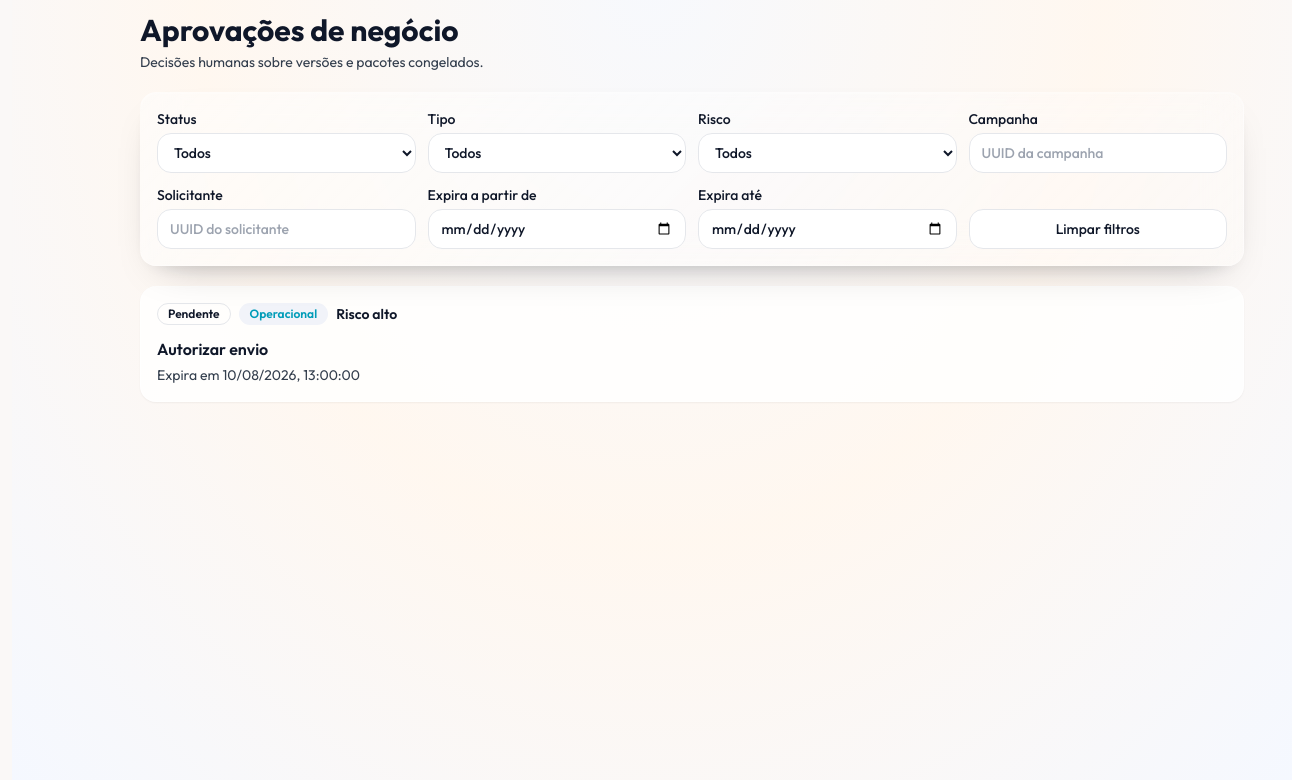
Test: ApprovalQueuePage › renders risk/status text and persists filters in the URL
The image size is (1292, 780).
Expected: the heading "Autorizar envio" is shown, [157,339,268,359]
Expected: the text "Risco alto" is shown, [336,304,397,324]
Select "Editorial" in the dropdown labelled "Tipo" at [557, 153], box [428,133,686,173]
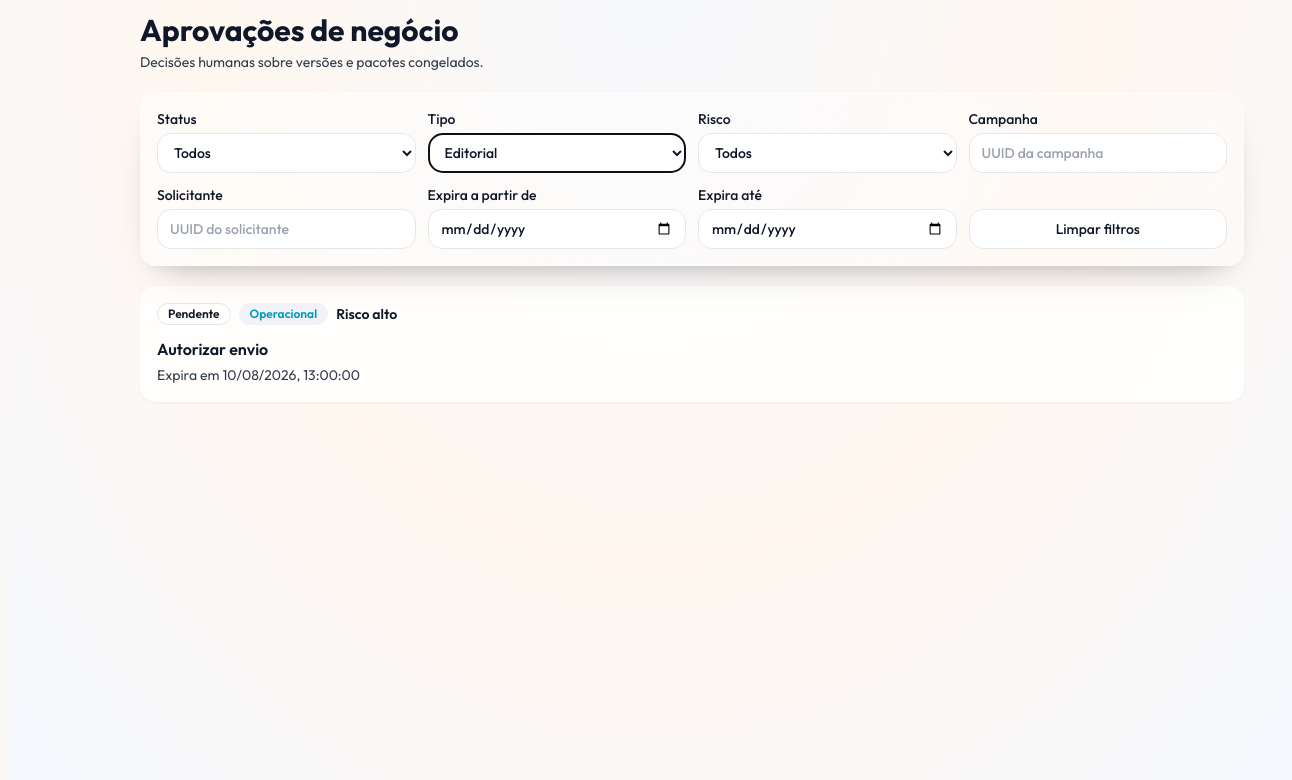
Type "bbbbbbbb-bbbb-4bbb-8bbb-bbbbbbbbbbbb" into the field labelled "Campanha" at [1098, 153], box [968,133,1227,173]
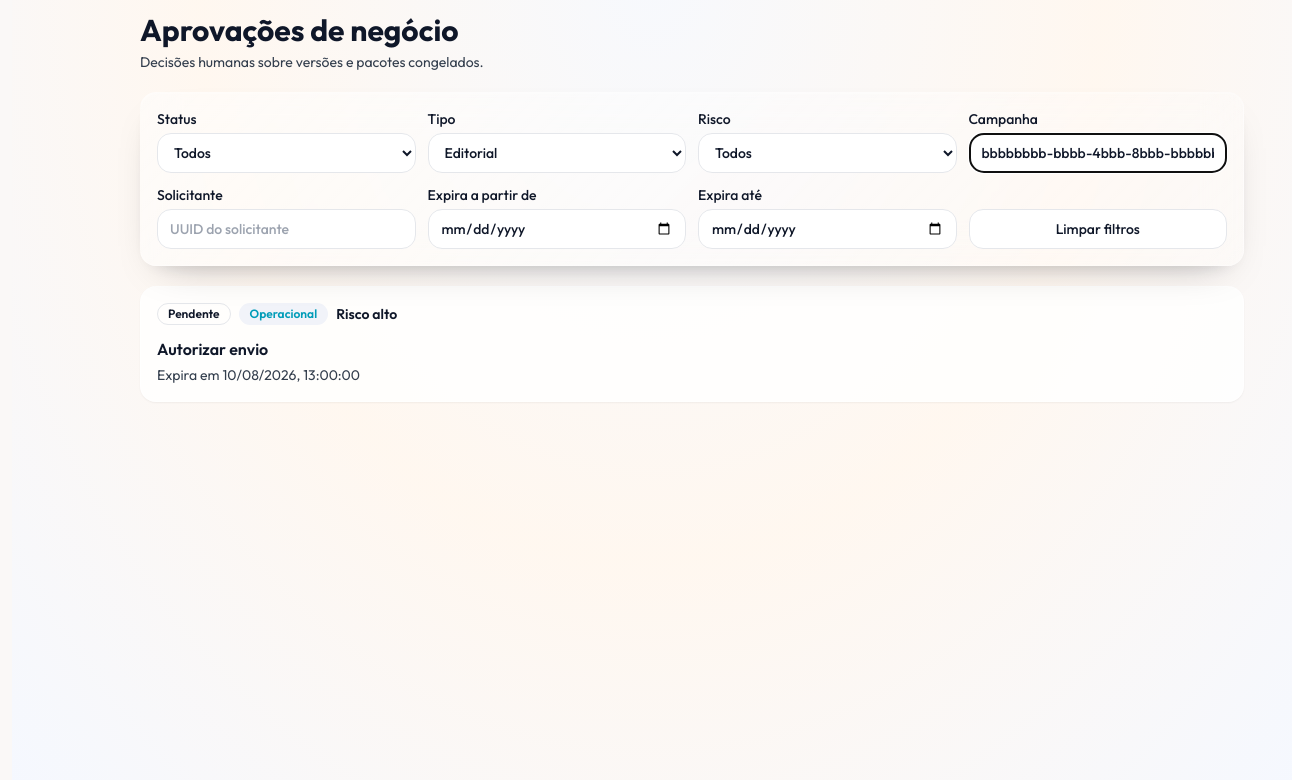
Type "cccccccc-cccc-4ccc-8ccc-cccccccccccc" into the field labelled "Solicitante" at [286, 229], box [157,209,416,249]
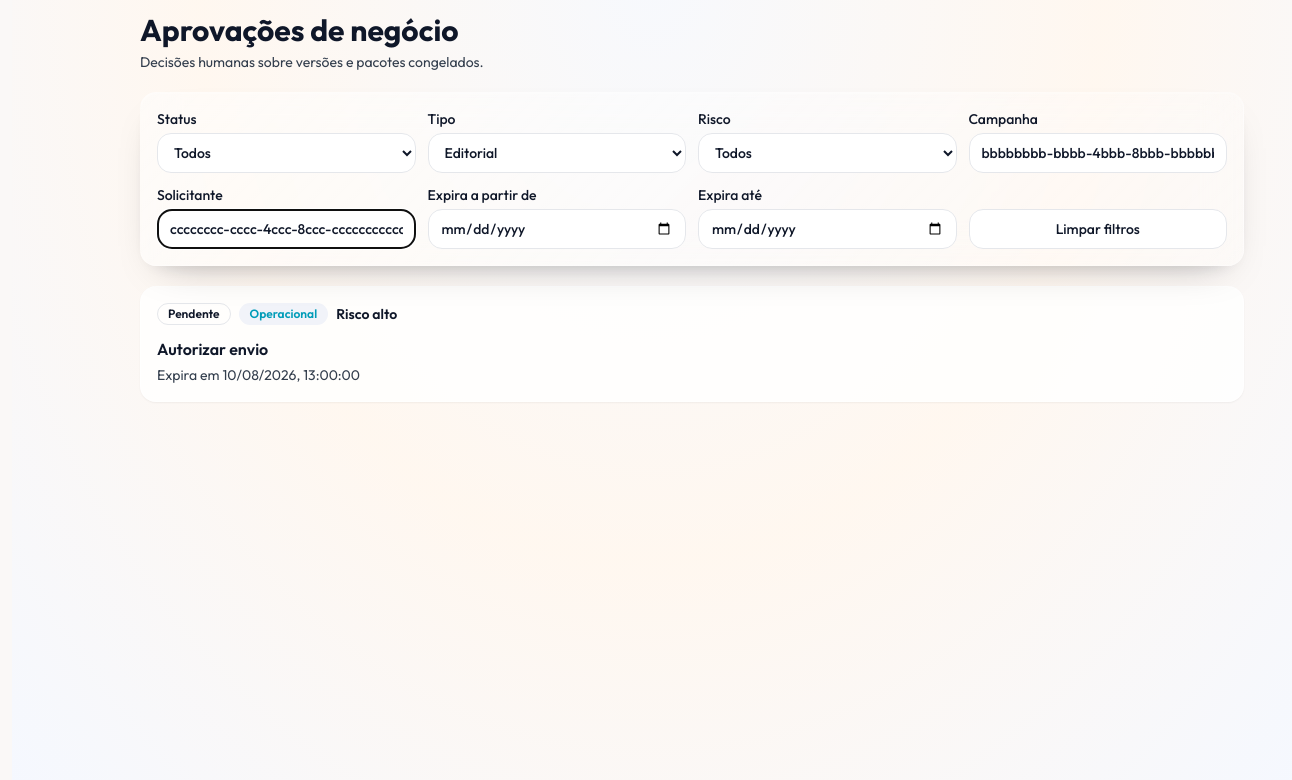
Type "2026-08-31" into the date field labelled "Expira até" at [827, 229], box [698,209,956,249]
(page scrolled)
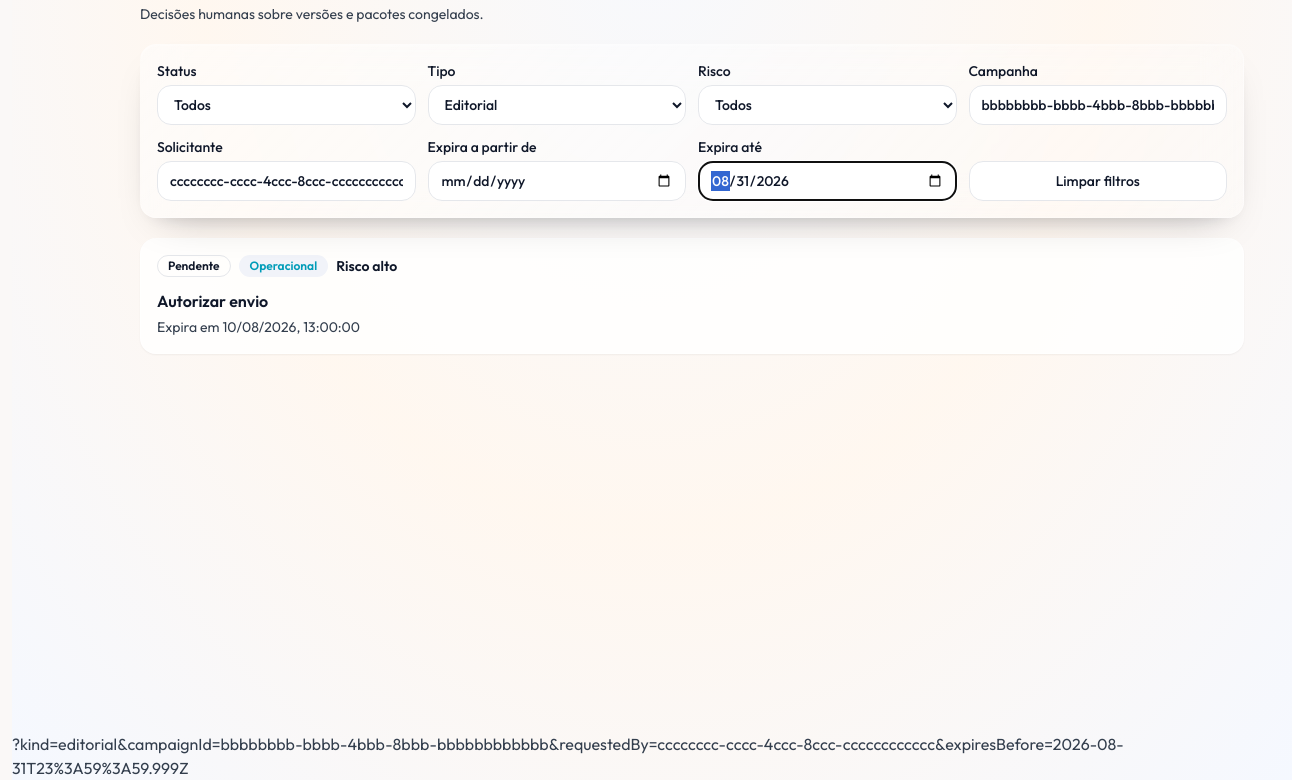
Expected: the text with test id "location" shows "campaignId=bbbbbbbb-bbbb-4bbb-8bbb-bbbbbbbbbbbb", [12,734,1124,778]
Expected: the text with test id "location" shows "requestedBy=cccccccc-cccc-4ccc-8ccc-cccccccccccc", [12,734,1124,778]
Expected: the text with test id "location" shows "expiresBefore=2026-08-31T23%3A59%3A59.999Z", [12,734,1124,778]
